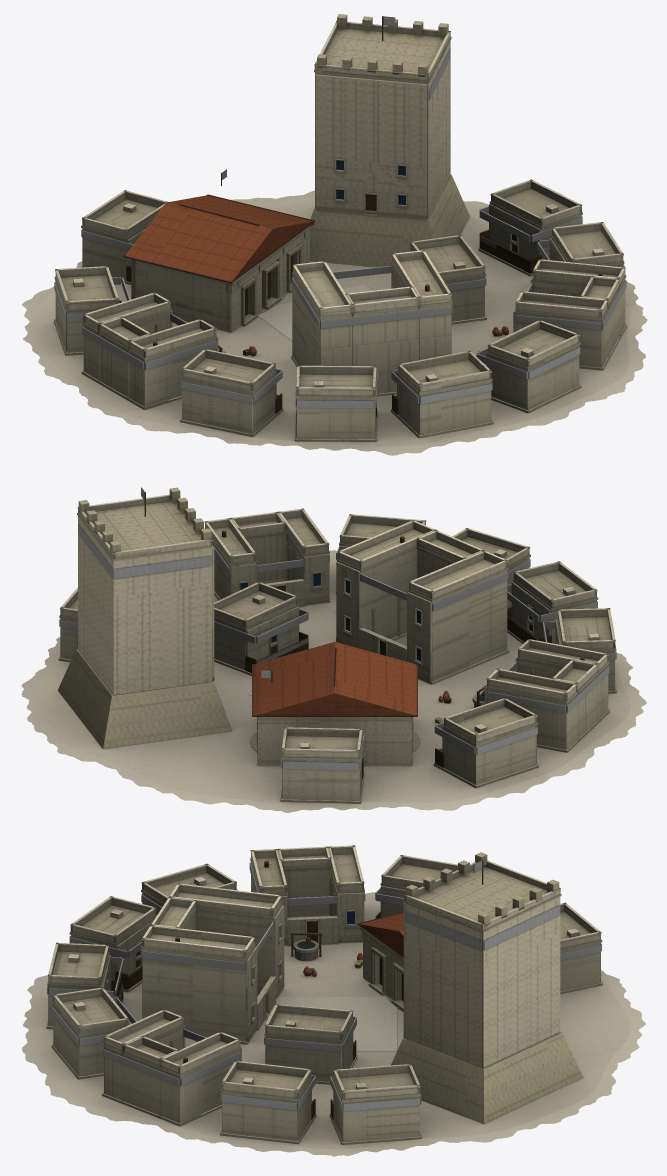
File: classical-town-medium-a-israelite-11f28c9b.glb
3 views of the same model, one above another, from view 1: azimuth 30°, elevation 25°; view 2: azimuth 150°, elevation 25°; view 3: azimuth 270°, elevation 25° (orthographic).
Parts seen in each view (by area): view 1: LOD0; view 2: LOD0; view 3: LOD0.
Part boxes in pixels (x1=…): LOD0: x1=22, y1=14, x2=647, y2=455; LOD0: x1=21, y1=487, x2=646, y2=812; LOD0: x1=22, y1=845, x2=645, y2=1156.
Size of what is drawn, in the model's own units: 5.93 by 2.3 by 5.94.
3 materials, 3 textured.
